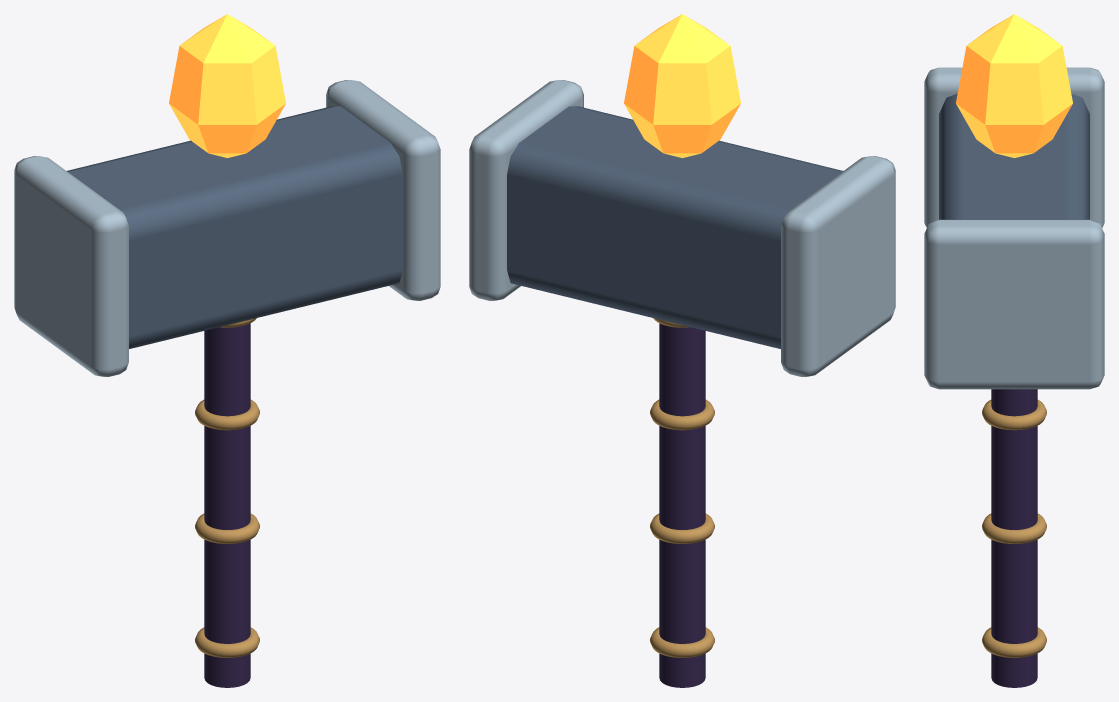
Rendered from ember_maul.glb.
3 renders of one model, left to right at view 1: azimuth 30°, elevation 25°; view 2: azimuth 150°, elevation 25°; view 3: azimuth 270°, elevation 25°, orthographic.
Visible parts, largest first — view 1: ember-maul; view 2: ember-maul; view 3: ember-maul.
Part boxes in pixels (box(x1,y1,x2,y2)): ember-maul: box(14, 14, 440, 687); ember-maul: box(469, 14, 895, 687); ember-maul: box(924, 14, 1104, 687).
Size of the model in its own units: 0.96 by 1.75 by 0.43.
